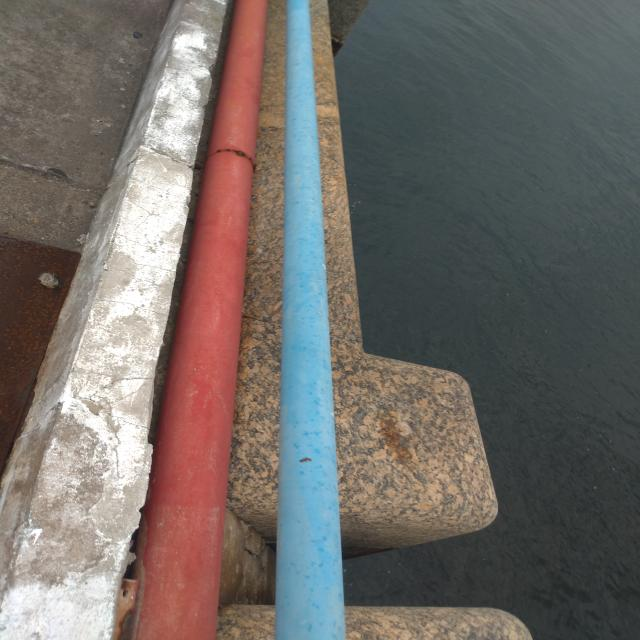gas: (127, 2, 269, 638), (277, 2, 347, 640)
